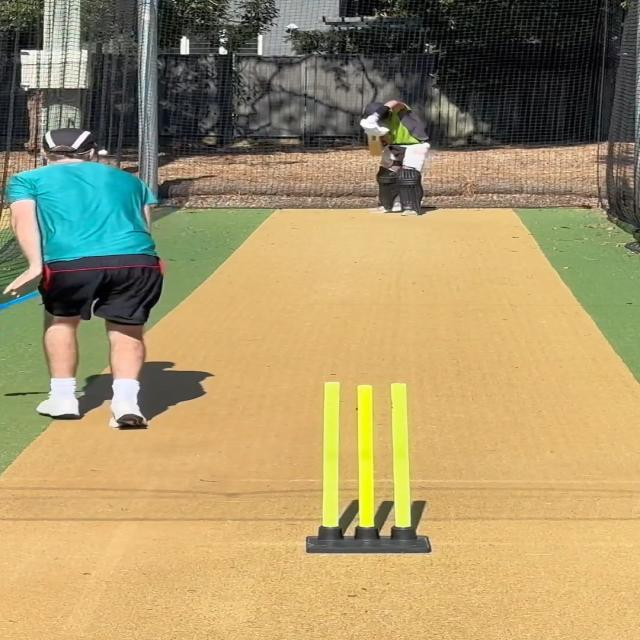ball: (96, 148, 109, 157)
stump: (302, 380, 430, 553)
